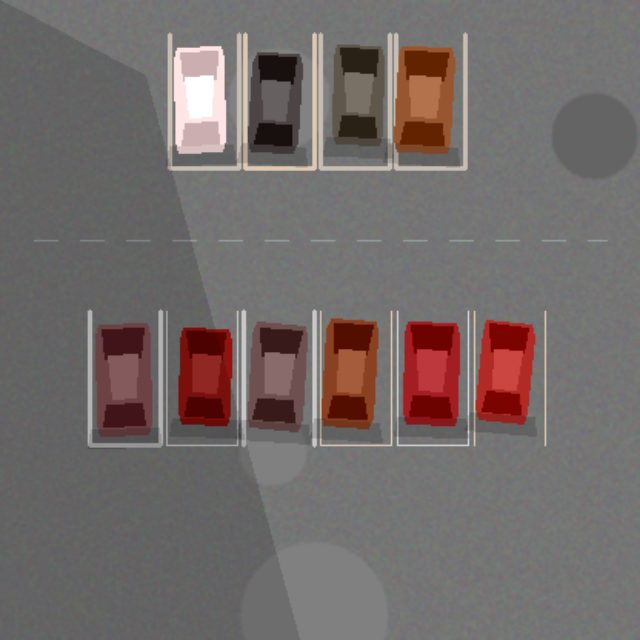space-occupied: (89, 311, 160, 445), (166, 311, 237, 445), (243, 311, 314, 445), (320, 311, 391, 445), (397, 311, 468, 445), (474, 311, 545, 445), (395, 34, 465, 168), (169, 34, 238, 168), (245, 34, 314, 168), (320, 34, 389, 168)
